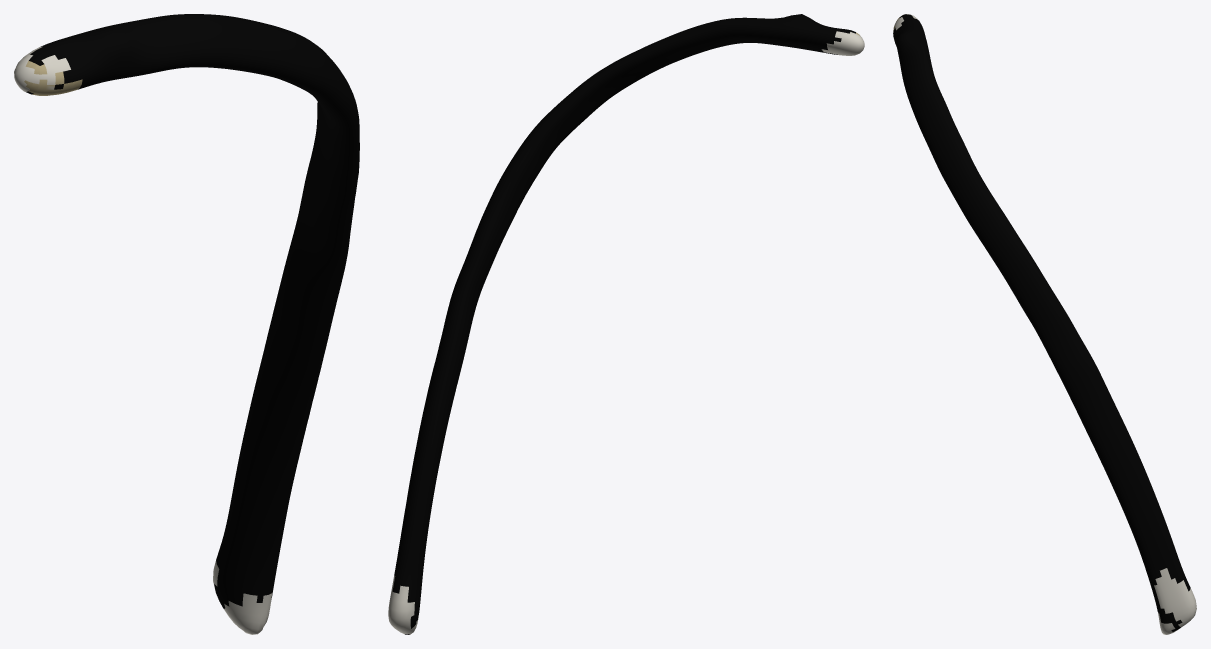
Rendered from Rib L08.fbx.
3 views of the same model, side by side, from view 1: azimuth 30°, elevation 25°; view 2: azimuth 150°, elevation 25°; view 3: azimuth 270°, elevation 25° (orthographic). The views are drawn at different scales.
Parts seen in each view (by area): view 1: Rib L08; view 2: Rib L08; view 3: Rib L08.
Boxes of the visible parts, x1,y1,x2,y2 form: Rib L08: (14, 14, 359, 634); Rib L08: (388, 14, 864, 634); Rib L08: (893, 14, 1196, 634).
Size of the model in its own units: 14.57 by 24.86 by 13.75.
